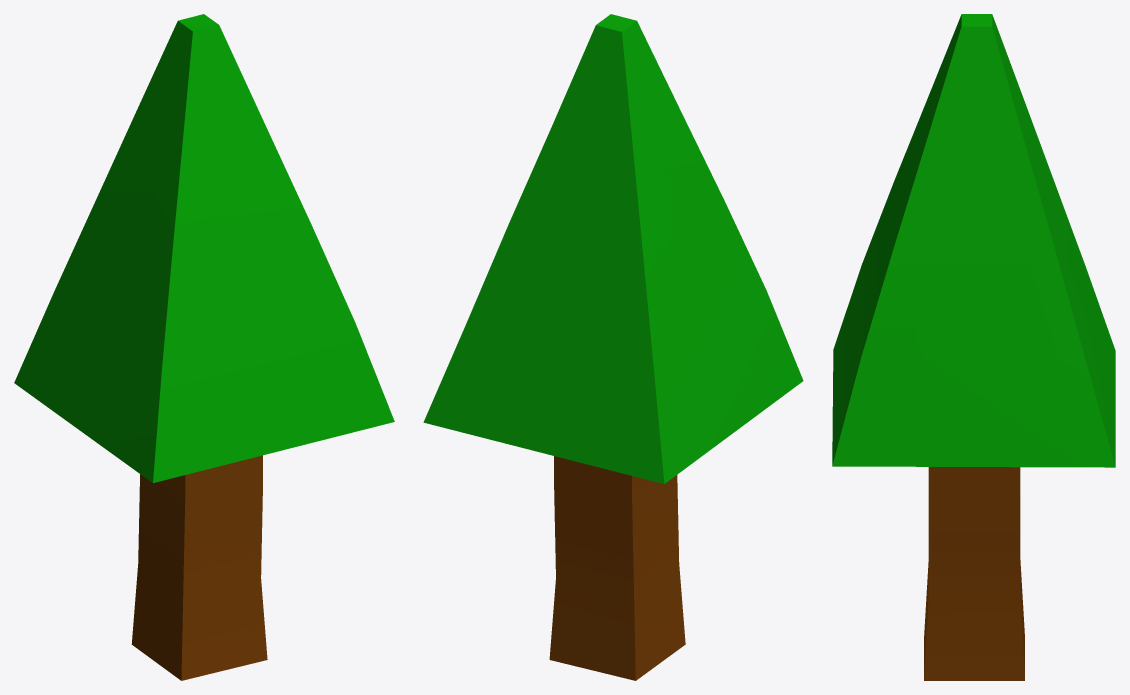
The model's file is smallTree.fbx.
3 views of the same model, side by side, from view 1: azimuth 30°, elevation 25°; view 2: azimuth 150°, elevation 25°; view 3: azimuth 270°, elevation 25° (orthographic).
Parts seen in each view (by area): view 1: unamed; view 2: unamed; view 3: unamed.
Boxes of the visible parts, box(x1,y1,x2,y2) form: unamed: box(14, 14, 394, 680); unamed: box(423, 14, 803, 680); unamed: box(832, 14, 1115, 680).
Bounding box in the file's own units: 0.1179 × 0.2934 × 0.1179.
1 material, 1 textured.
